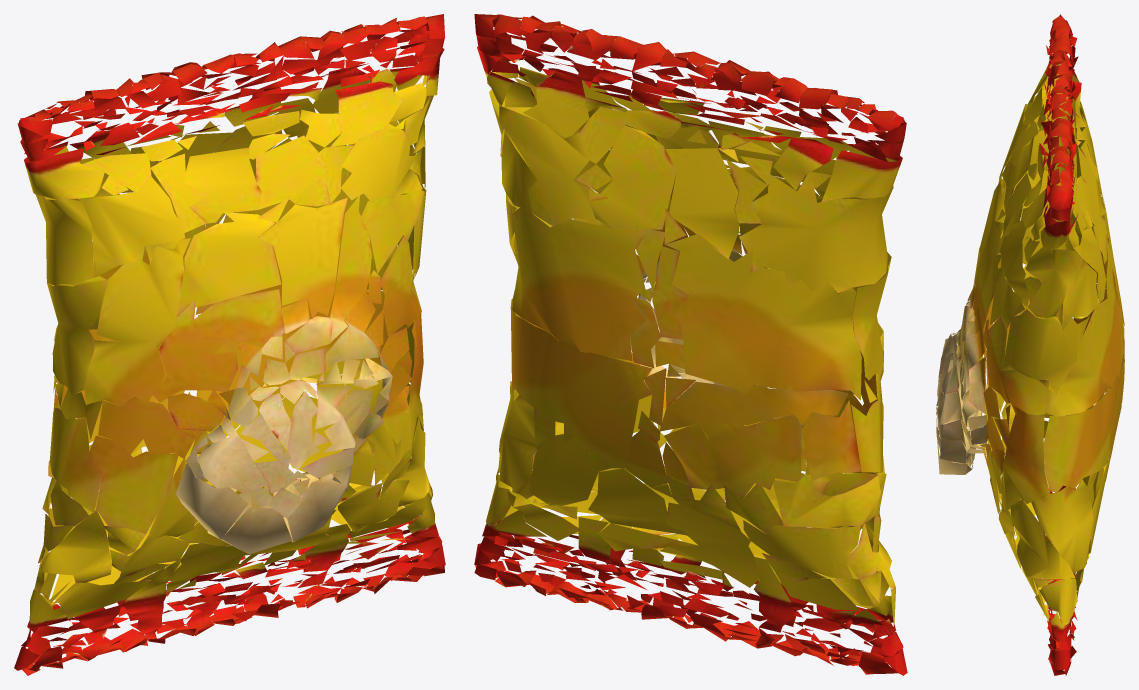
The model's file is waste-wrapper.glb.
3 views of the same model, side by side, from view 1: azimuth 30°, elevation 25°; view 2: azimuth 150°, elevation 25°; view 3: azimuth 270°, elevation 25° (orthographic). The views are drawn at different scales.
Parts seen in each view (by area): view 1: Mesh_0; view 2: Mesh_0; view 3: Mesh_0.
Boxes of the visible parts, <box> form: Mesh_0: <box>14,14,445,675</box>; Mesh_0: <box>474,14,907,675</box>; Mesh_0: <box>936,14,1124,675</box>.
Size of the model in its own units: 1.49 by 1.91 by 0.6536.
Materials: 1 (1 with a texture image).
